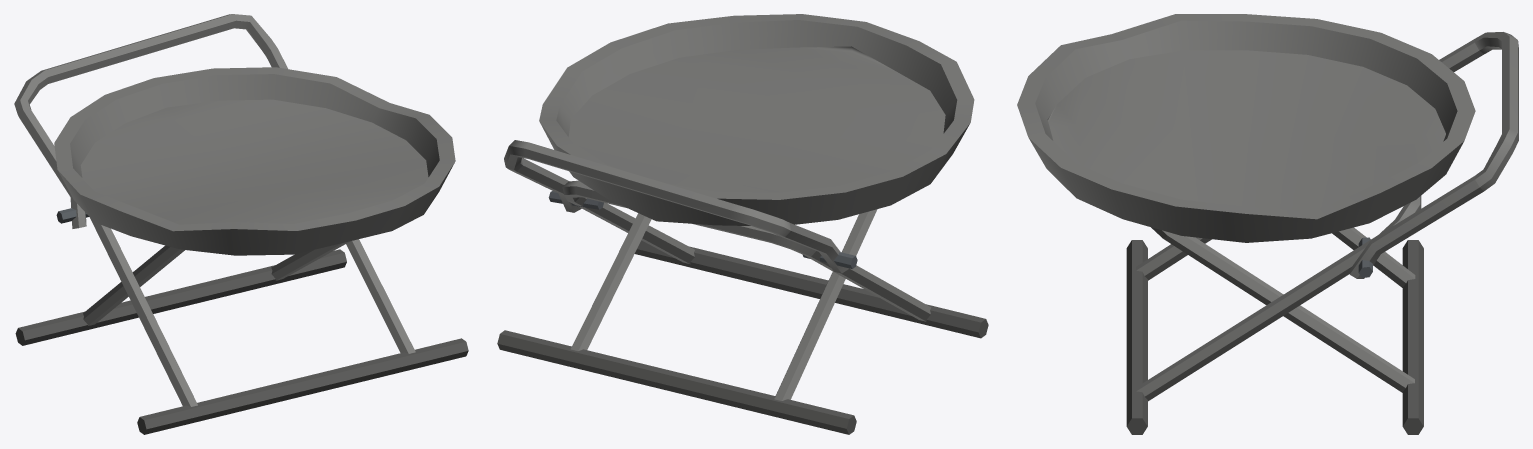
File: SM_Prop_Cart_Tray_01.glb
The picture shows the model from 3 angles, left to right: view 1: azimuth 30°, elevation 25°; view 2: azimuth 150°, elevation 25°; view 3: azimuth 270°, elevation 25°; orthographic projection. The views are drawn at different scales.
Parts seen in each view (by area): view 1: SM_Prop_Cart_Tray_01; view 2: SM_Prop_Cart_Tray_01; view 3: SM_Prop_Cart_Tray_01.
Part boxes in pixels (bbox=[...]): SM_Prop_Cart_Tray_01: bbox=[14, 14, 468, 434]; SM_Prop_Cart_Tray_01: bbox=[497, 14, 988, 434]; SM_Prop_Cart_Tray_01: bbox=[1017, 14, 1518, 434].
Size of the model in its own units: 1.38 by 0.8965 by 1.52.
Materials: 1 (1 with a texture image).
